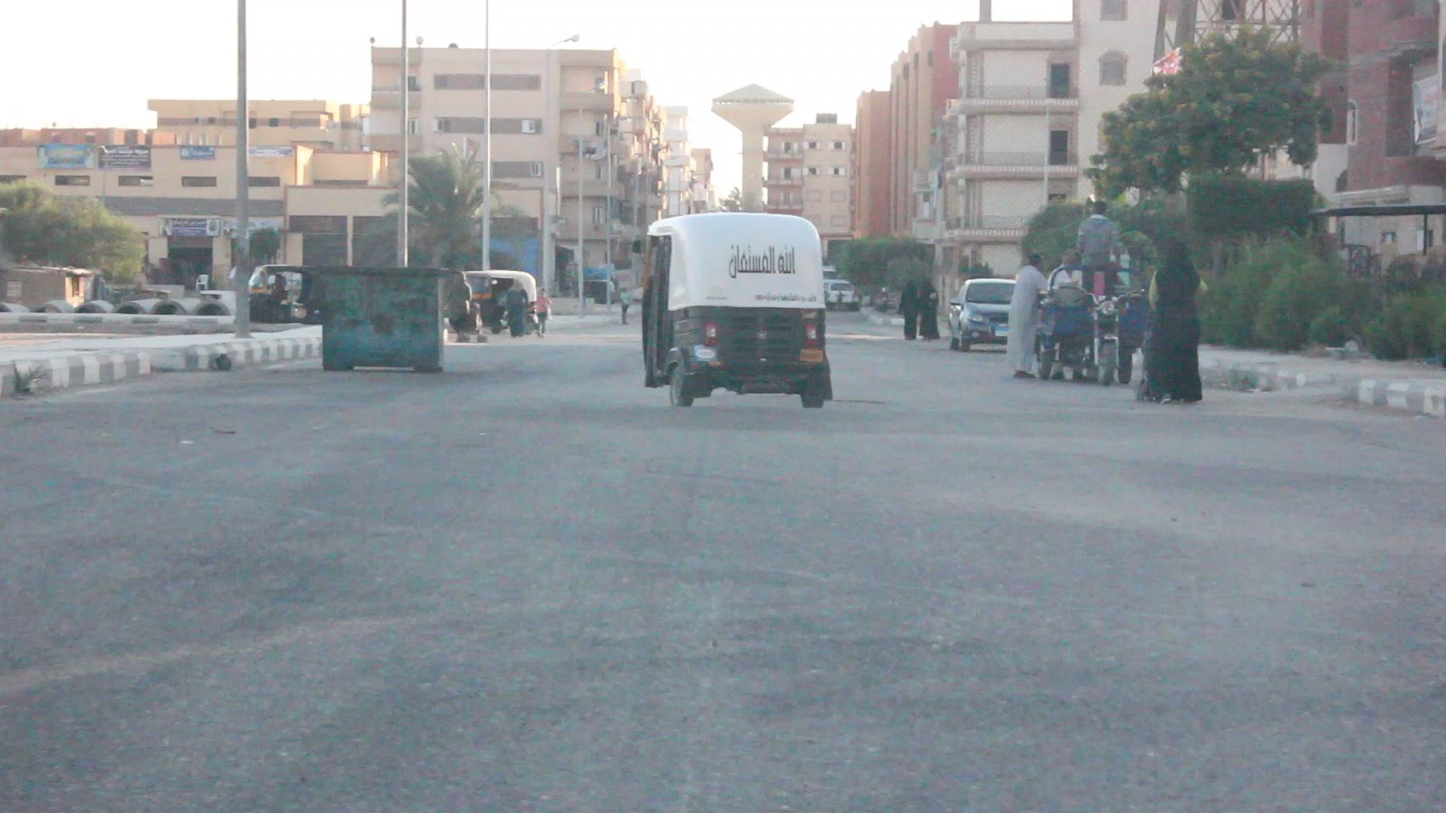Bump: (40, 382, 1446, 465)
